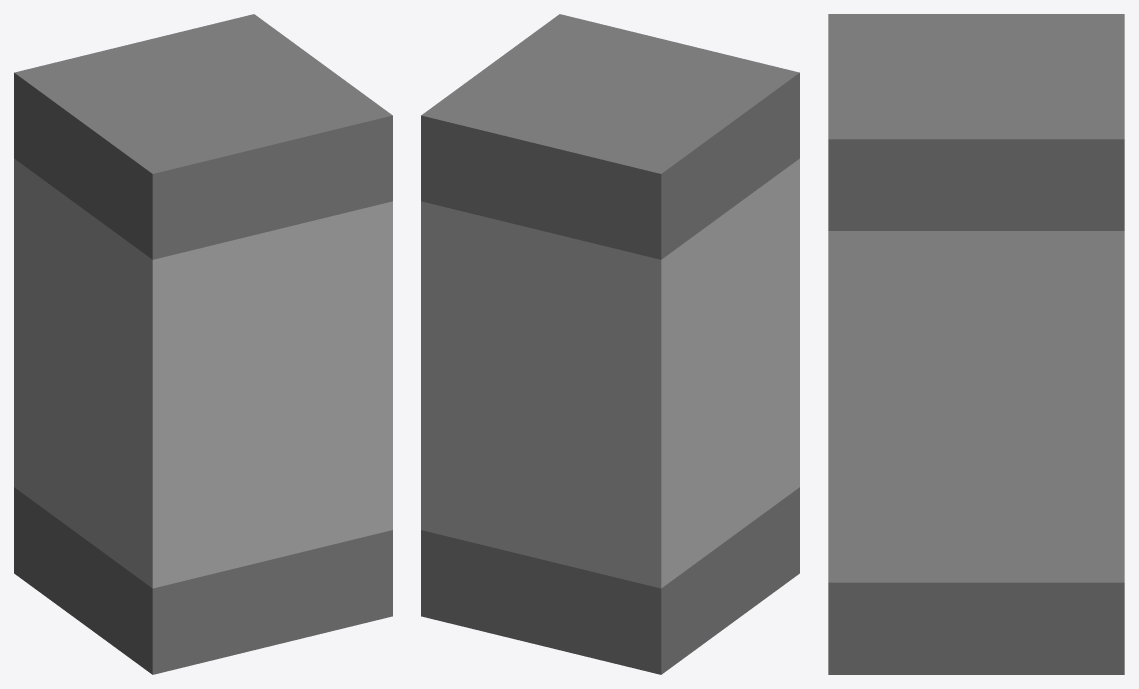
File: Air_Filter_1.fbx
3 views of the same model, side by side, from view 1: azimuth 30°, elevation 25°; view 2: azimuth 150°, elevation 25°; view 3: azimuth 270°, elevation 25° (orthographic). The views are drawn at different scales.
Visible parts, largest first — view 1: Air_Filter_1; view 2: Air_Filter_1; view 3: Air_Filter_1.
Part boxes in pixels (box(x1,y1,x2,y2)): Air_Filter_1: box(14, 14, 392, 674); Air_Filter_1: box(421, 14, 799, 674); Air_Filter_1: box(828, 14, 1124, 674).
Size of the model in its own units: 20.09 by 40.04 by 20.09.
